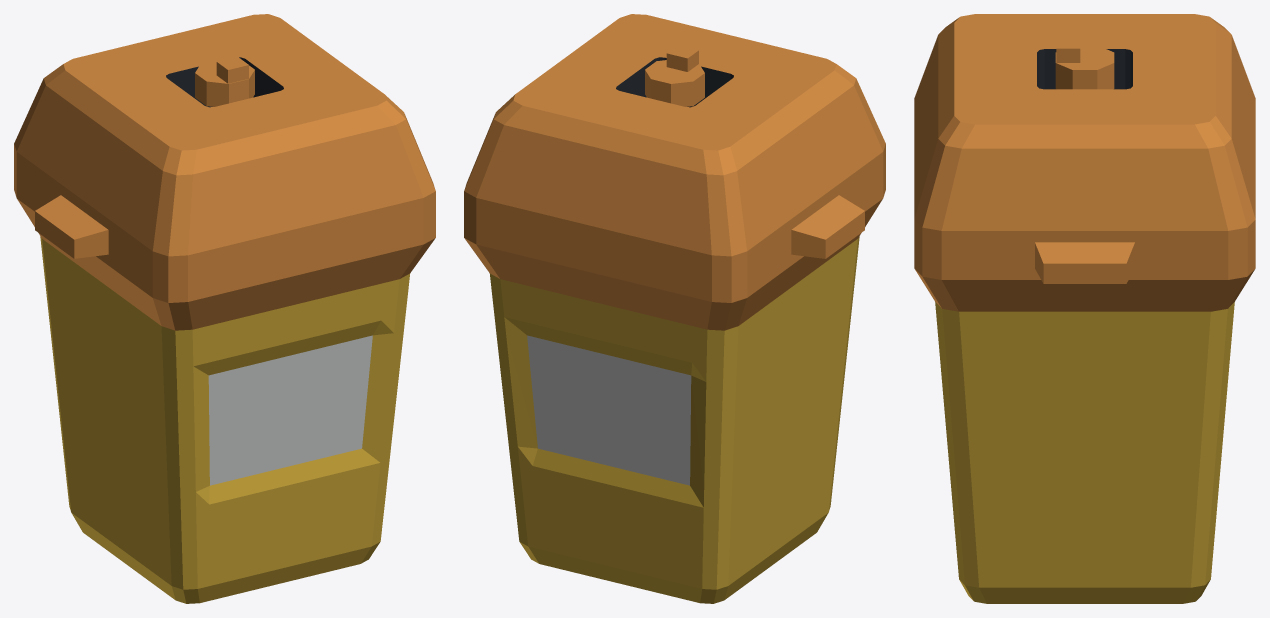
Rendered from sharps-bin-7f5587.glb.
The picture shows the model from 3 angles, left to right: view 1: azimuth 30°, elevation 25°; view 2: azimuth 150°, elevation 25°; view 3: azimuth 270°, elevation 25°; orthographic projection. The views are drawn at different scales.
Parts seen in each view (by area): view 1: sharps-bin, closure; view 2: sharps-bin, closure; view 3: sharps-bin, closure.
Part boxes in pixels (box(x1,y1,x2,y2)): sharps-bin: box(14, 14, 435, 603); closure: box(195, 56, 254, 106); sharps-bin: box(464, 14, 885, 603); closure: box(645, 45, 704, 106); sharps-bin: box(914, 14, 1255, 603); closure: box(1055, 38, 1114, 89).
Size of the model in its own units: 0.26 by 0.354 by 0.214.
